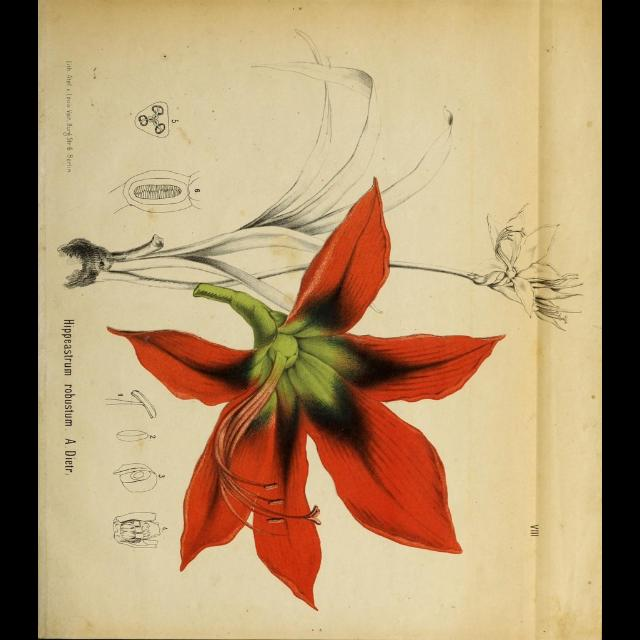Flower: (111, 179, 492, 571)
